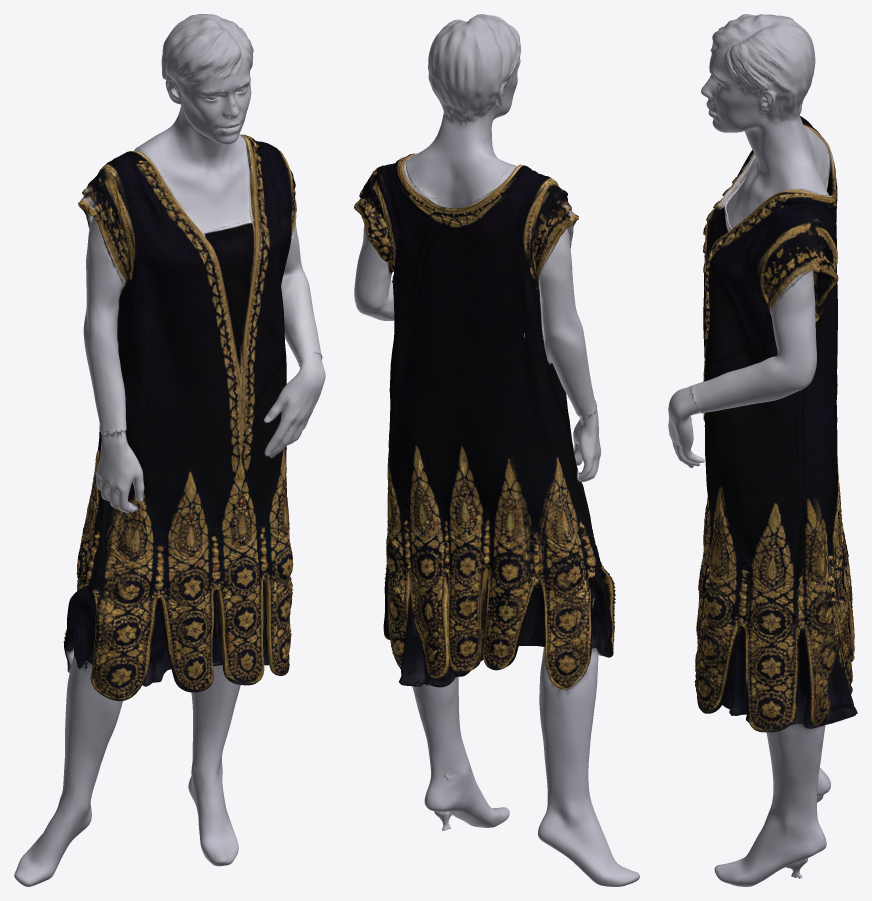
The picture shows the model from 3 angles, left to right: view 1: azimuth 30°, elevation 25°; view 2: azimuth 150°, elevation 25°; view 3: azimuth 270°, elevation 25°; orthographic projection. The views are drawn at different scales.
Visible parts, largest first — view 1: tripo_node_0a335141-f770-4ddb-bbb5-81a41d10273c; view 2: tripo_node_0a335141-f770-4ddb-bbb5-81a41d10273c; view 3: tripo_node_0a335141-f770-4ddb-bbb5-81a41d10273c.
Boxes of the visible parts, x1=… form: tripo_node_0a335141-f770-4ddb-bbb5-81a41d10273c: x1=14, y1=14, x2=325, y2=886; tripo_node_0a335141-f770-4ddb-bbb5-81a41d10273c: x1=354, y1=14, x2=639, y2=886; tripo_node_0a335141-f770-4ddb-bbb5-81a41d10273c: x1=668, y1=14, x2=857, y2=886.
Bounding box in the file's own units: 0.3507 × 0.9807 × 0.1938.
Materials: 1 (1 with a texture image).
